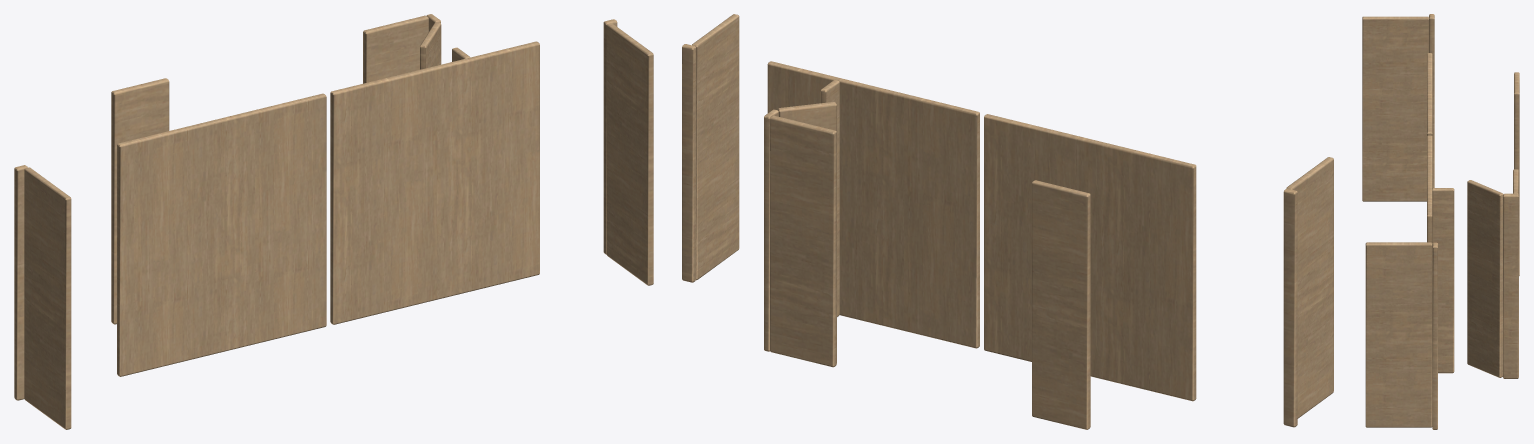
File: Stalls_02.fbx
3 views of the same model, side by side, from view 1: azimuth 30°, elevation 25°; view 2: azimuth 150°, elevation 25°; view 3: azimuth 270°, elevation 25° (orthographic). The views are drawn at different scales.
Visible parts, largest first — view 1: BathroomStalls_02; view 2: BathroomStalls_02; view 3: BathroomStalls_02.
Boxes of the visible parts, left/top/right/bottom form: BathroomStalls_02: left=14, top=14, right=653, bottom=429; BathroomStalls_02: left=682, top=14, right=1333, bottom=429; BathroomStalls_02: left=1362, top=14, right=1519, bottom=429.
Size of the model in its own units: 595 by 219 by 170.
1 material, 1 textured.
